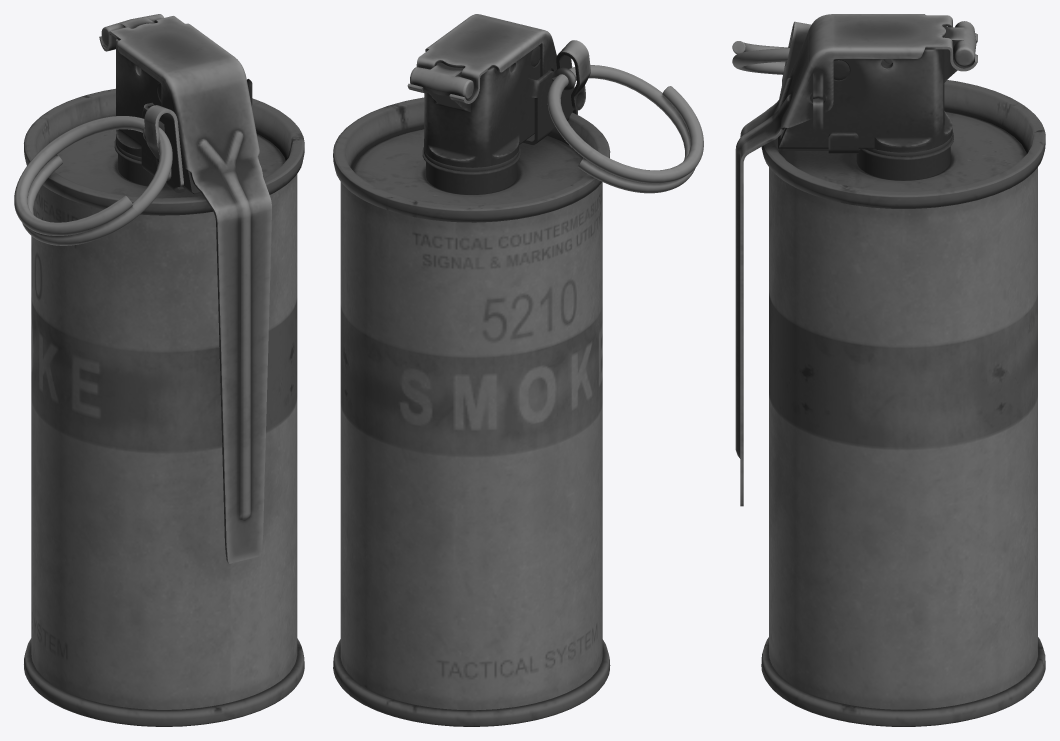
Rendered from smoke.fbx.
3 views of the same model, side by side, from view 1: azimuth 30°, elevation 25°; view 2: azimuth 150°, elevation 25°; view 3: azimuth 270°, elevation 25° (orthographic). The views are drawn at different scales.
Visible parts, largest first — view 1: weapons/models/grenade/smokegrenade/weapon_smokegrenade.vmdl; view 2: weapons/models/grenade/smokegrenade/weapon_smokegrenade.vmdl; view 3: weapons/models/grenade/smokegrenade/weapon_smokegrenade.vmdl.
Boxes of the visible parts, x1,y1,x2,y2 form: weapons/models/grenade/smokegrenade/weapon_smokegrenade.vmdl: (14, 14, 304, 726); weapons/models/grenade/smokegrenade/weapon_smokegrenade.vmdl: (333, 14, 703, 726); weapons/models/grenade/smokegrenade/weapon_smokegrenade.vmdl: (732, 14, 1045, 726).
Bounding box in the file's own units: 5.94 × 11.81 × 5.27.
